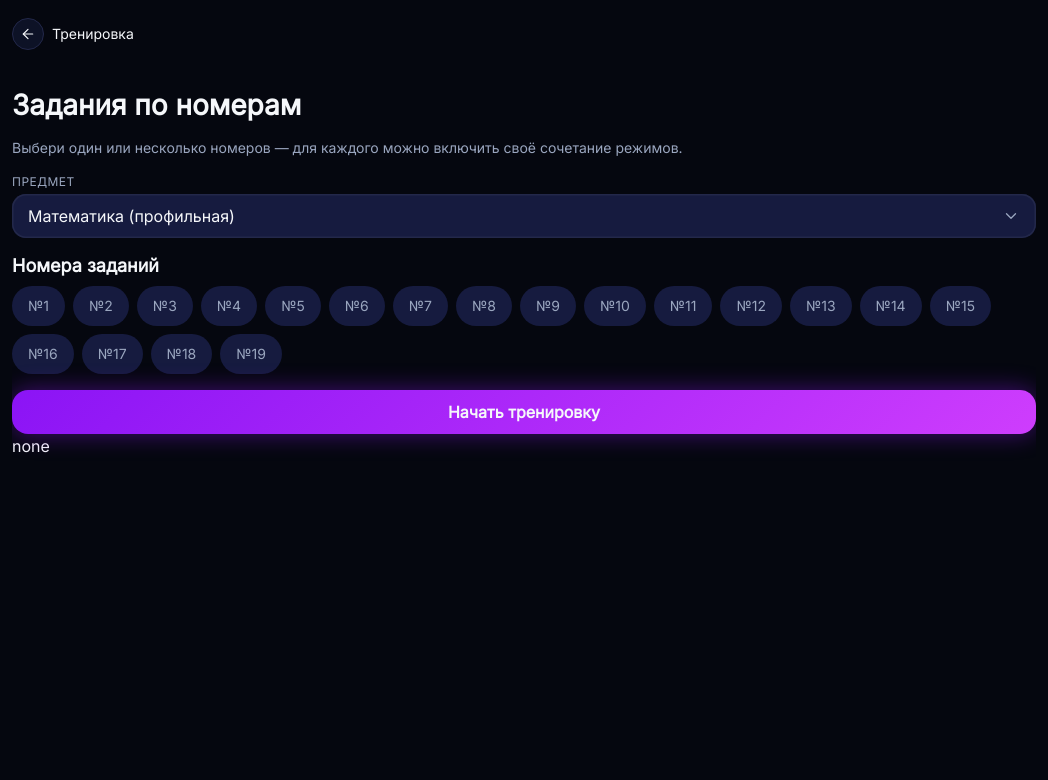
Scenario: TrainingByNumber › a newly selected number defaults to both flags off — "обычный выбор"
The image size is (1048, 780).
Step 1. Click the button "№5" → (293, 306), box top-left (265, 286), bottom-right (321, 326)
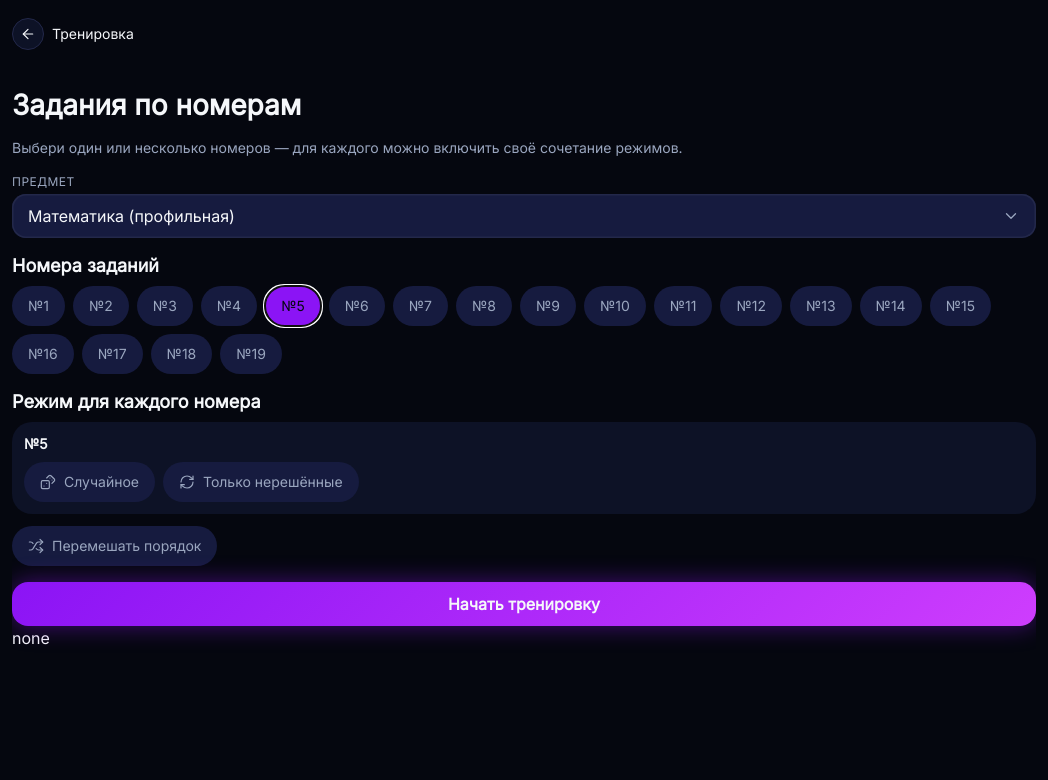
Step 2. Click the button "Начать тренировку" → (524, 604), box top-left (12, 582), bottom-right (1036, 626)
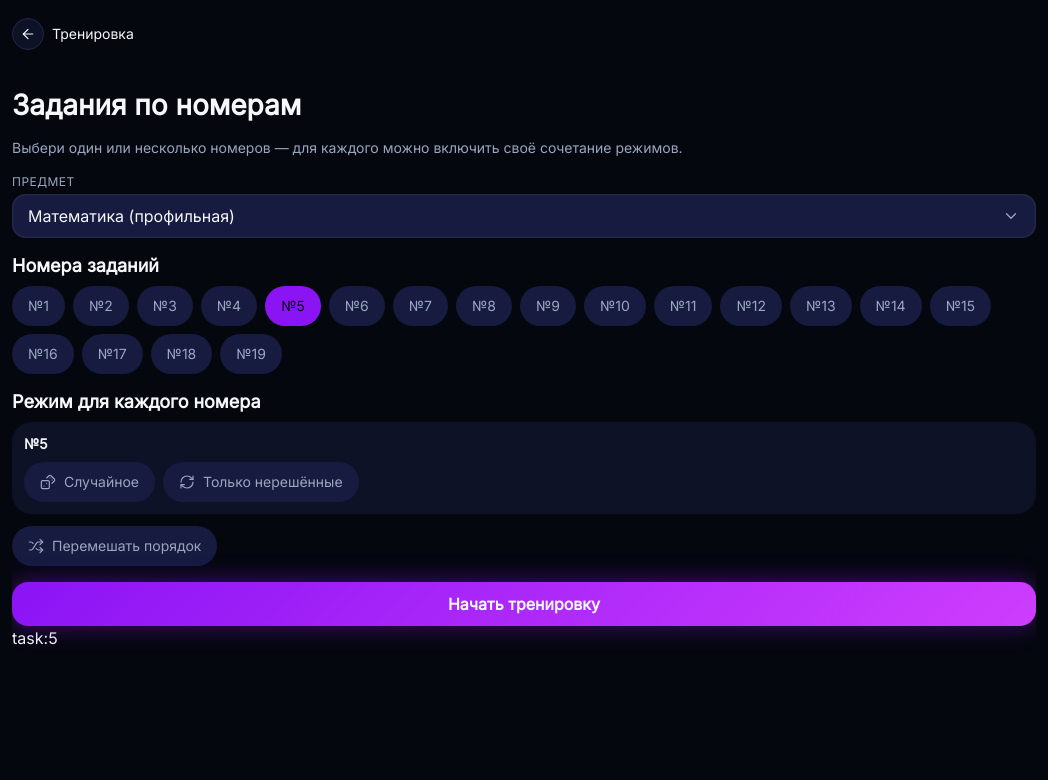
Now the text with test id "overlay" reads "task:5", box top-left (12, 628), bottom-right (58, 648)
